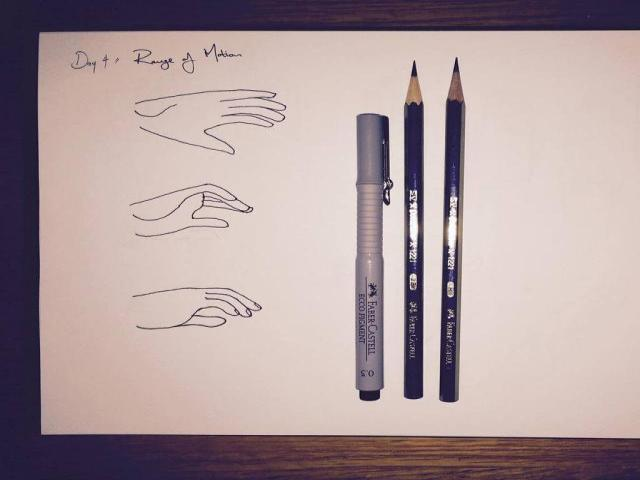PEN: (343, 91, 407, 409)
